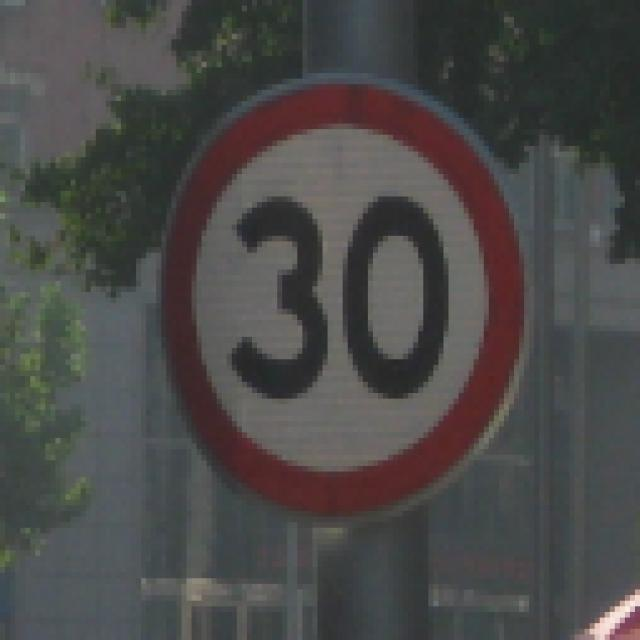Speed: (166, 38, 538, 516)
